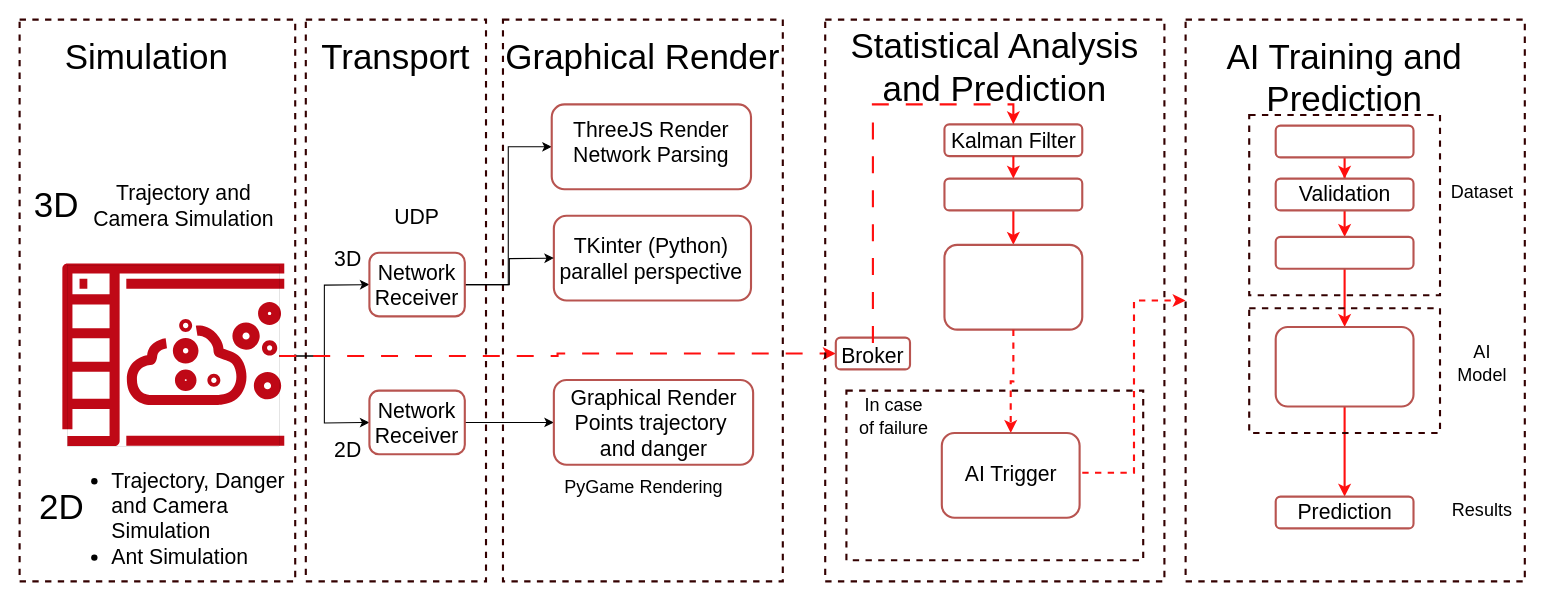
Some shapes in this 1543 by 607 pixel diagram are drawn without their labels. Each missing label, with the centre of its shape:
"Data formatting and smoothing" goes at point (1013, 286).
"Long-Short Term-Memory" goes at point (1344, 366).
"Markov" goes at point (1013, 194).
"Test" goes at point (1344, 252).
"Training" goes at point (1344, 141).
